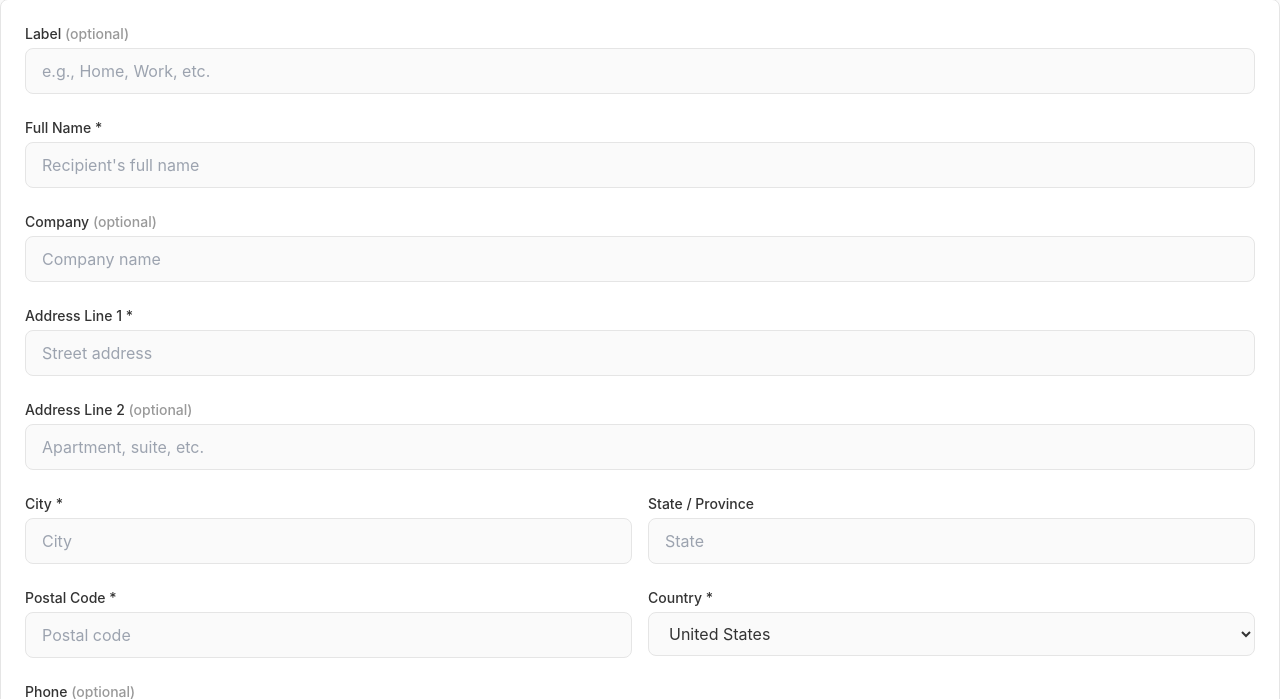
AddressForm › form validation › shows error for empty city field
Type "John Doe" into the field labelled "Full Name *" at (640, 165), box [25, 142, 1255, 188]
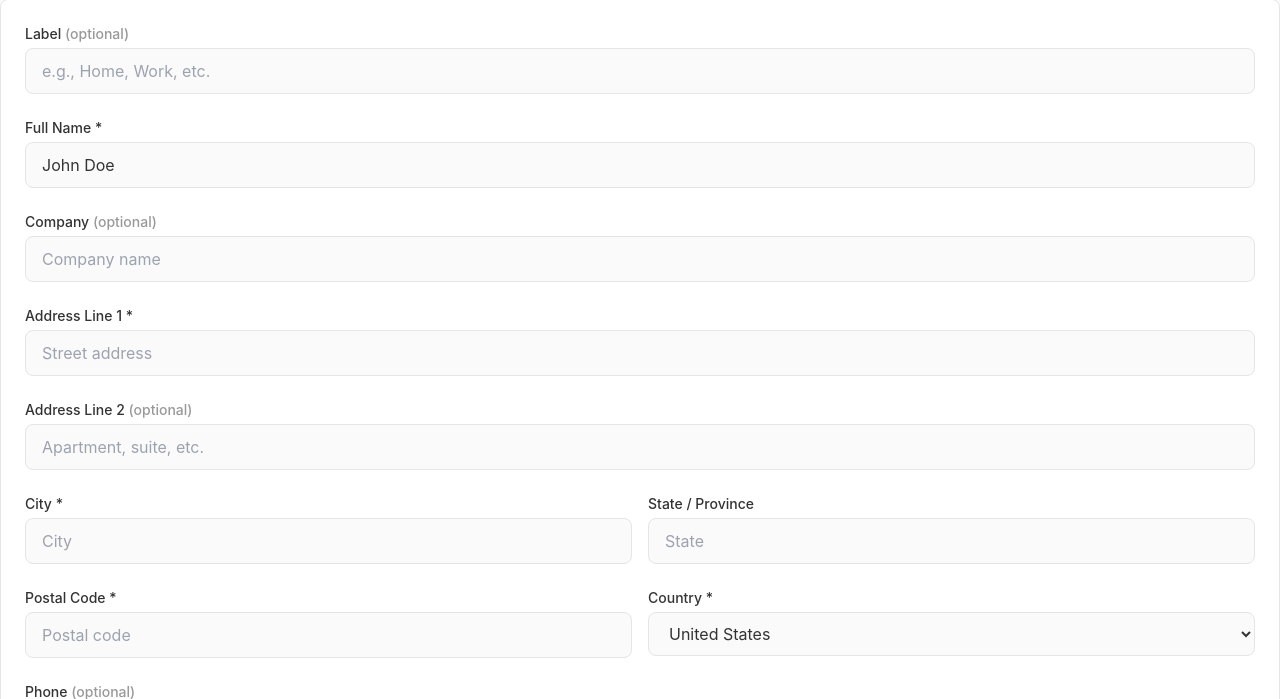
Type "123 Main St" into the field labelled "Address Line 1 *" at (640, 353), box [25, 330, 1255, 376]
(page scrolled)
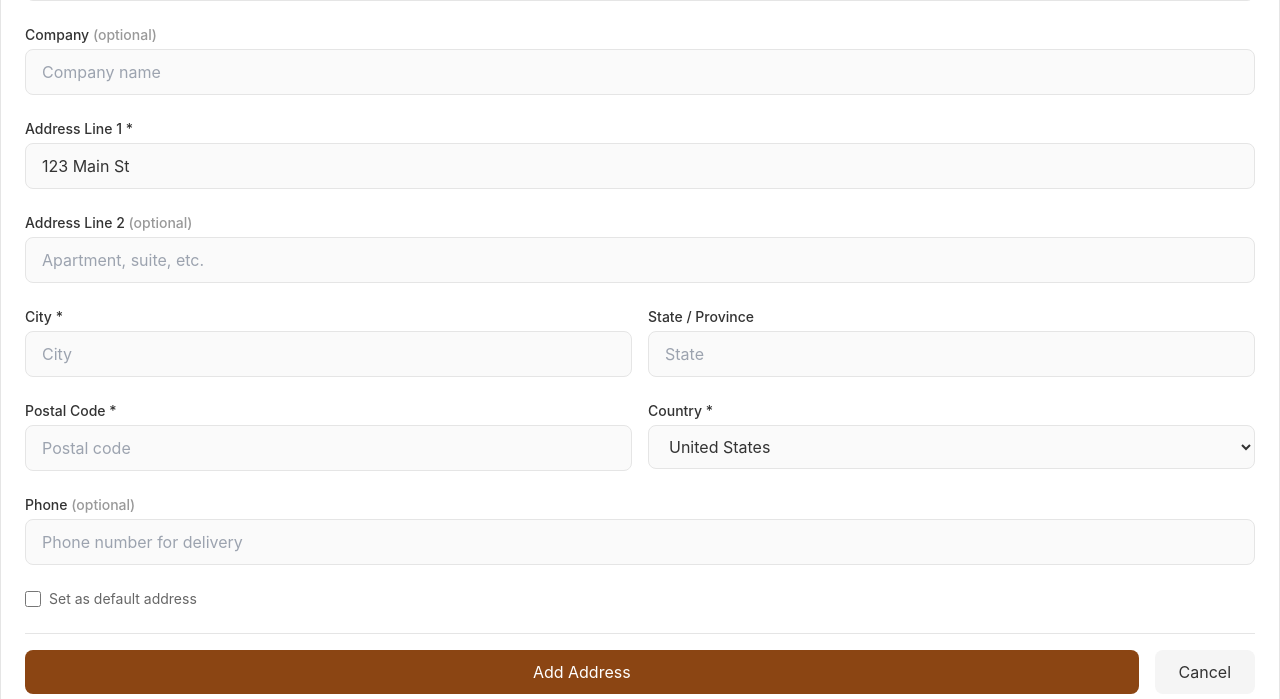
Click the button "Add Address" at (582, 672), box [25, 650, 1138, 694]
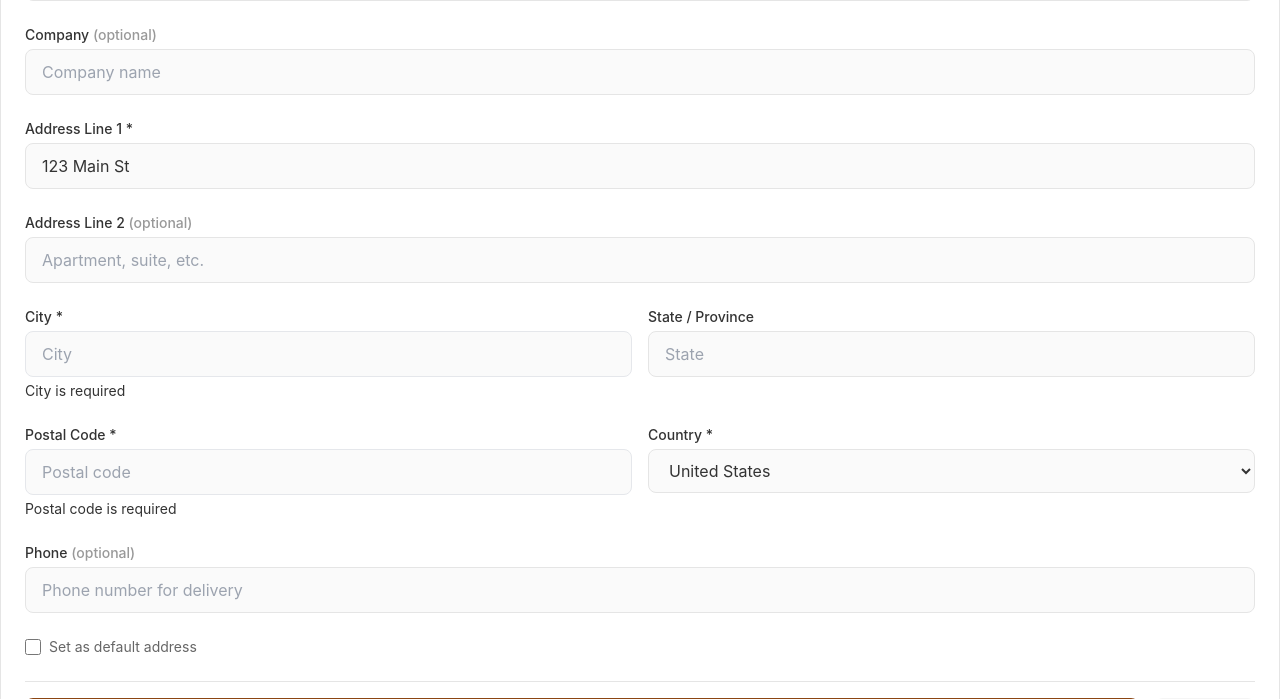
Now the text "City is required" is shown, box [25, 382, 125, 399]
